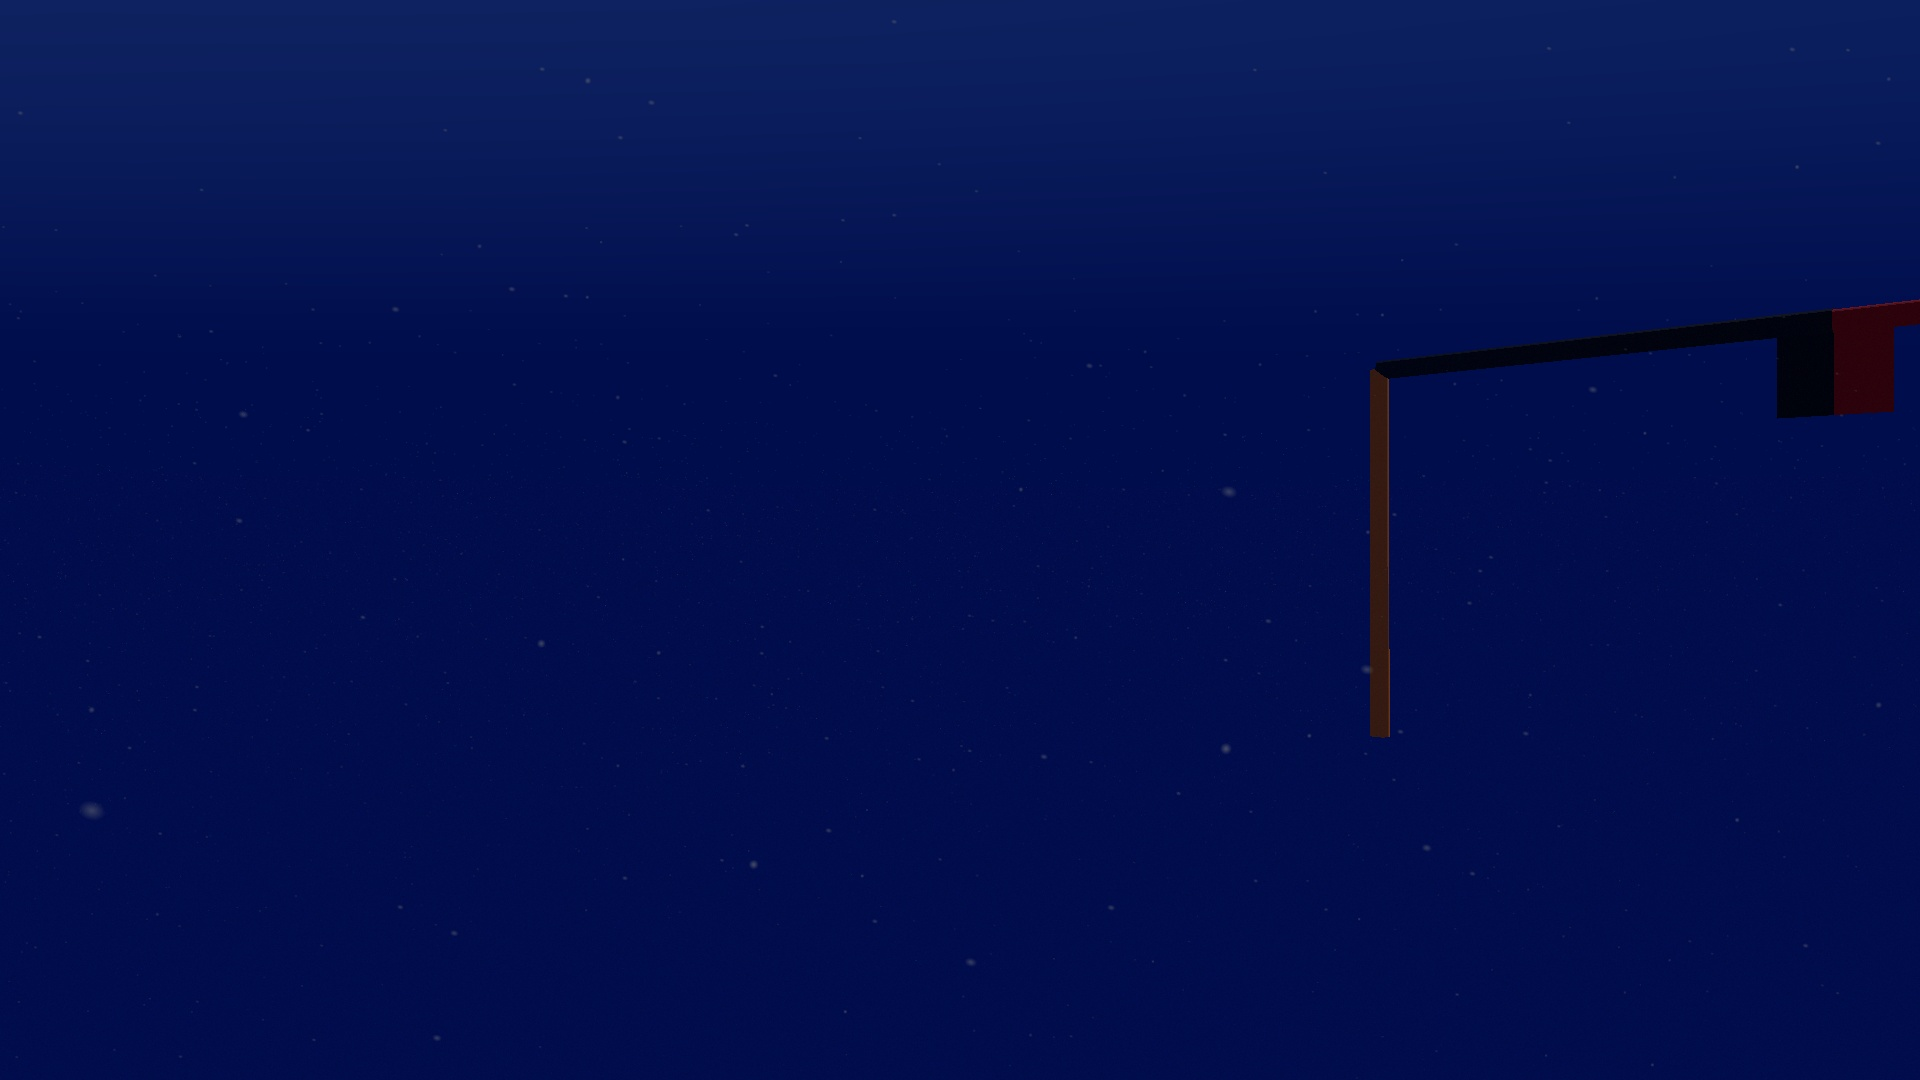Gate: (1364, 298, 1916, 742)
